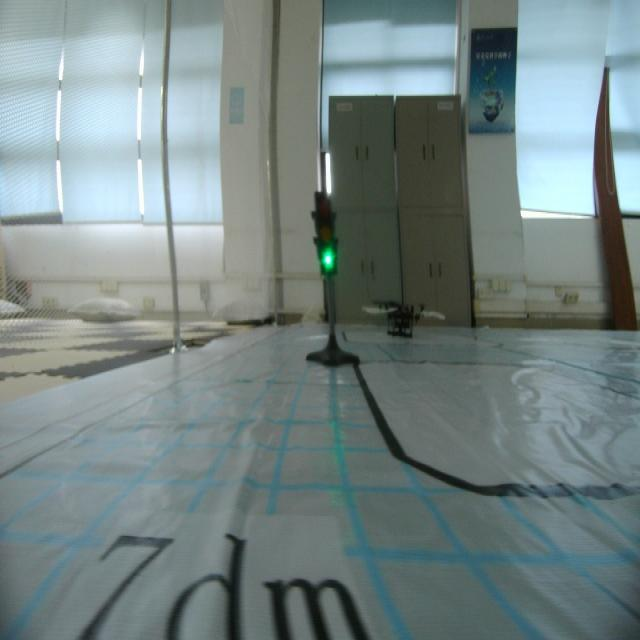green: (311, 191, 341, 281)
